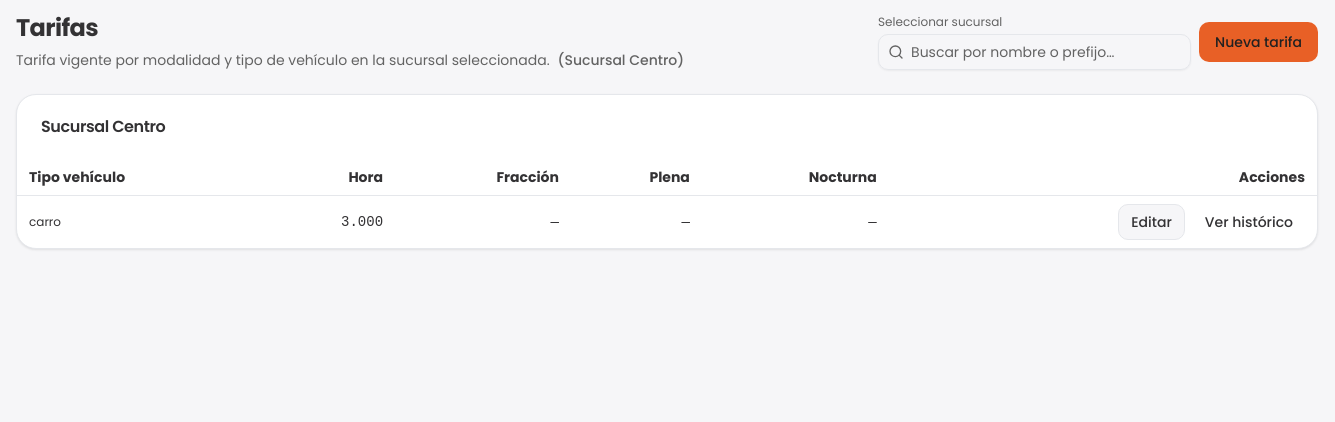
Test: Tarifas page › TP-hist-2: el panel histórico formatea el valor sin 4 decimales (3.000 no 3000.0000)
Click the button "Ver histórico" at (1249, 222), box top-left (1193, 204), bottom-right (1305, 240)
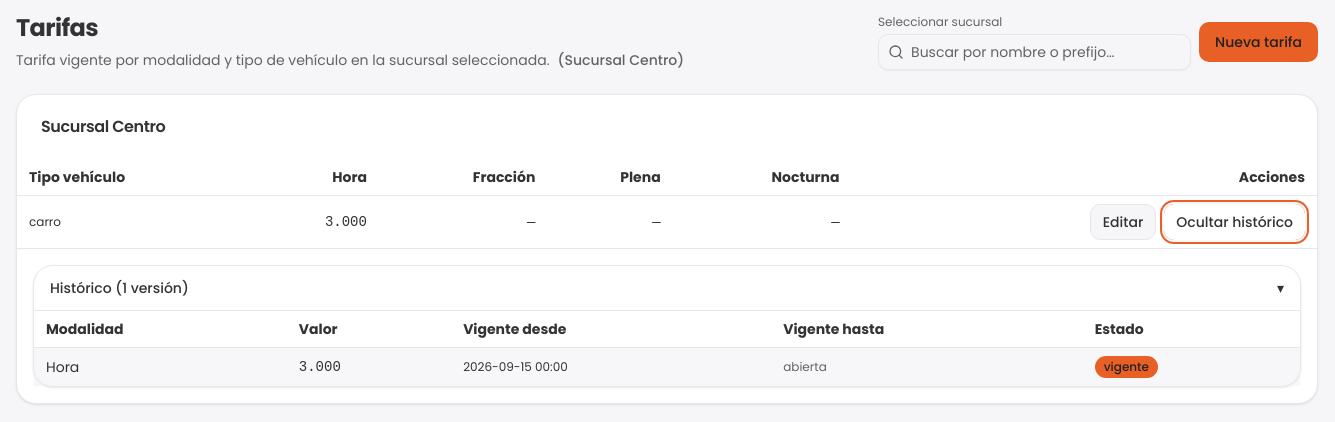
Expected: the row with test id "version-history-row-0" shows "3.000", top-left (299, 359), bottom-right (341, 375)
